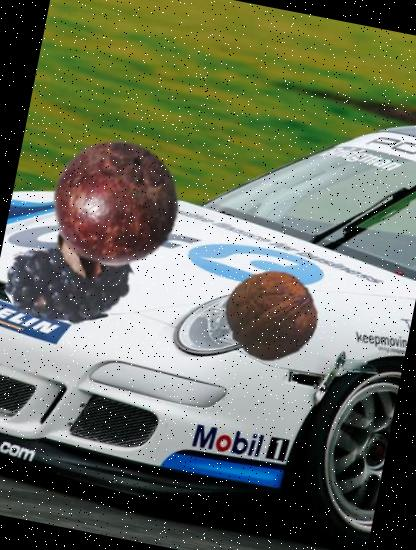Mangostan: (26, 122, 194, 292)
Mulberry: (0, 209, 140, 352)
Walnut: (216, 261, 326, 370)
